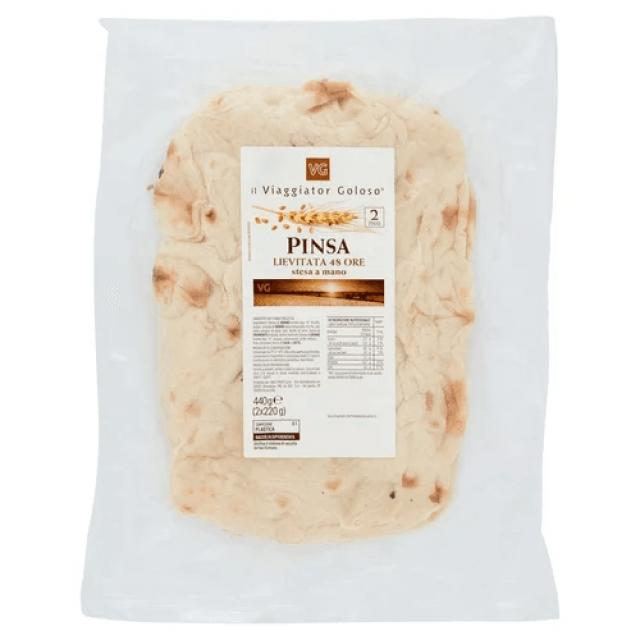bread: (79, 15, 559, 626)
